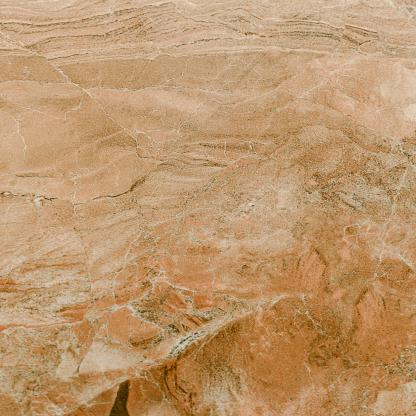Sedimentary_Sandstone: (1, 2, 411, 415)
